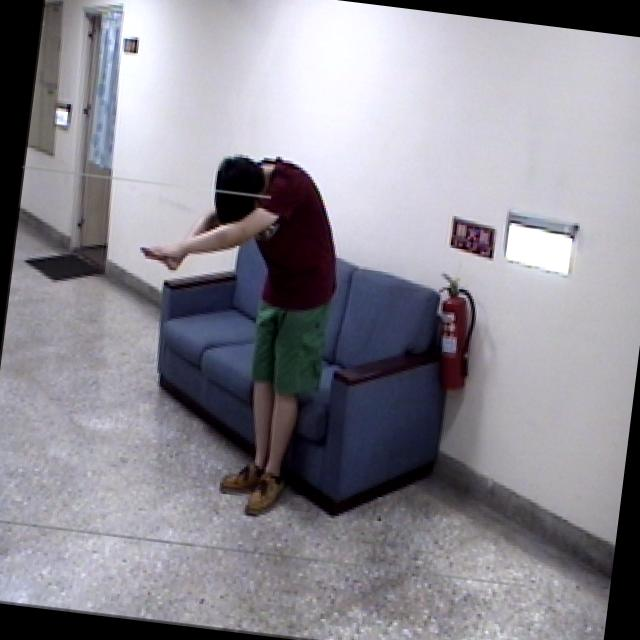bend: (105, 137, 362, 526)
